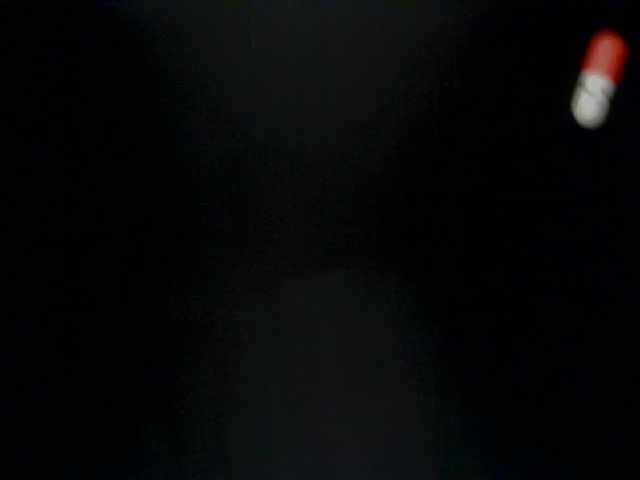YHLJ: (226, 270, 528, 358)
